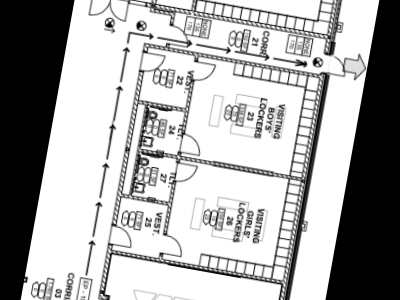door: (108, 224, 136, 252), (140, 49, 168, 75), (192, 59, 218, 84), (180, 131, 205, 157), (162, 234, 186, 260), (326, 54, 350, 80), (175, 161, 199, 186)
double door: (87, 0, 131, 23)
wall: (272, 70, 326, 300), (142, 0, 330, 42), (140, 40, 322, 79), (111, 248, 284, 287), (108, 67, 147, 230), (159, 179, 179, 240), (322, 0, 342, 57), (95, 241, 115, 298), (136, 96, 188, 117), (180, 77, 197, 134), (119, 191, 175, 208), (188, 0, 201, 12), (149, 0, 169, 5)
